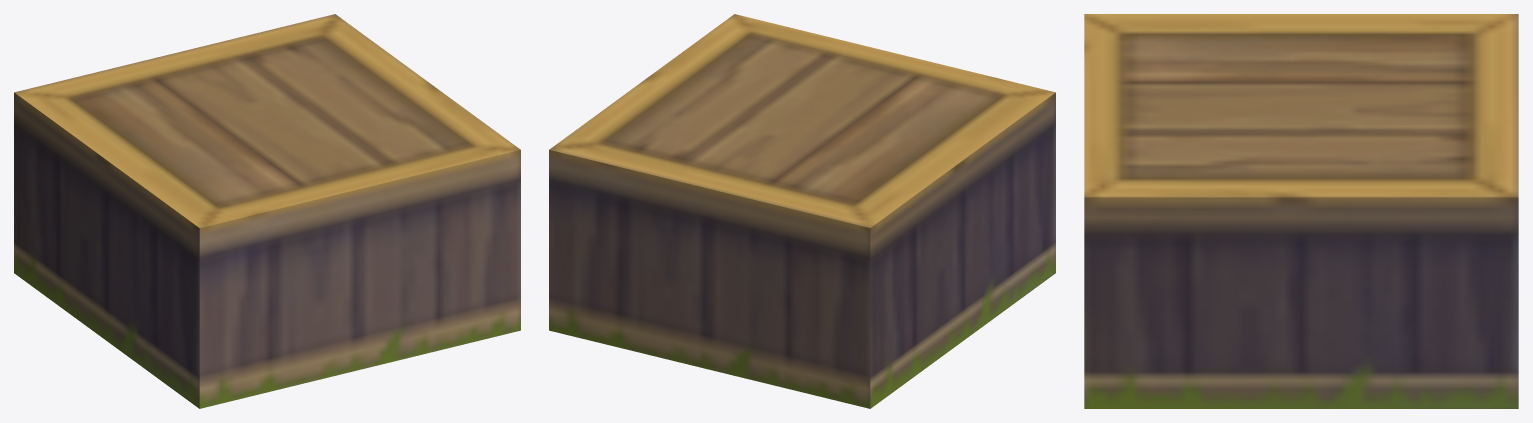
Rendered from scenes_construction_box01.FBX.
3 views of the same model, side by side, from view 1: azimuth 30°, elevation 25°; view 2: azimuth 150°, elevation 25°; view 3: azimuth 270°, elevation 25° (orthographic). The views are drawn at different scales.
Visible parts, largest first — view 1: scenes_construction_box01; view 2: scenes_construction_box01; view 3: scenes_construction_box01.
Part boxes in pixels (x1,y1,x2,y2): scenes_construction_box01: (14,14,520,408); scenes_construction_box01: (549,14,1055,408); scenes_construction_box01: (1084,14,1518,408).
Bounding box in the file's own units: 250 × 134 × 250.
